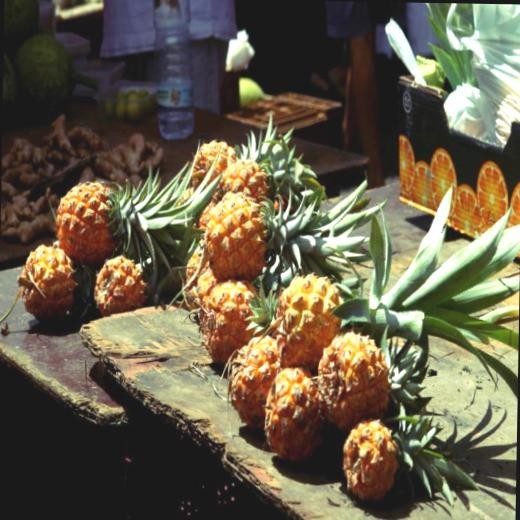Mango: (0, 103, 520, 502)
